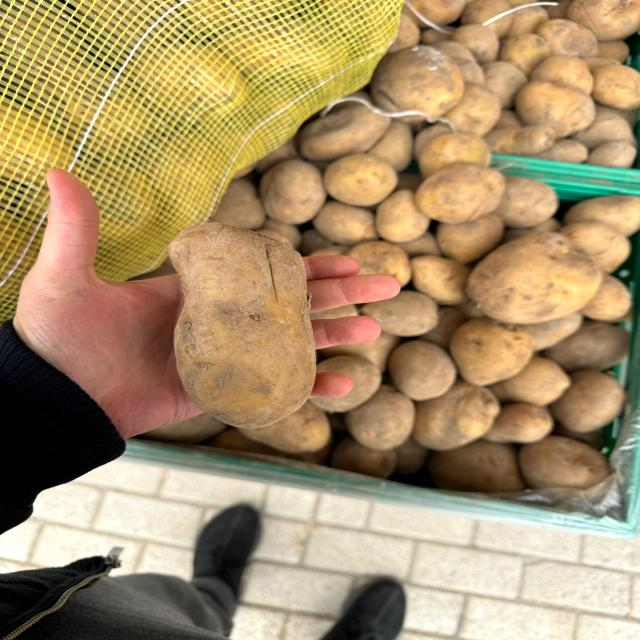potato: (135, 207, 346, 438)
